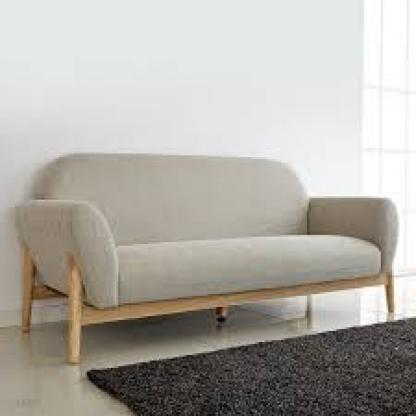sofa: (18, 146, 394, 320)
